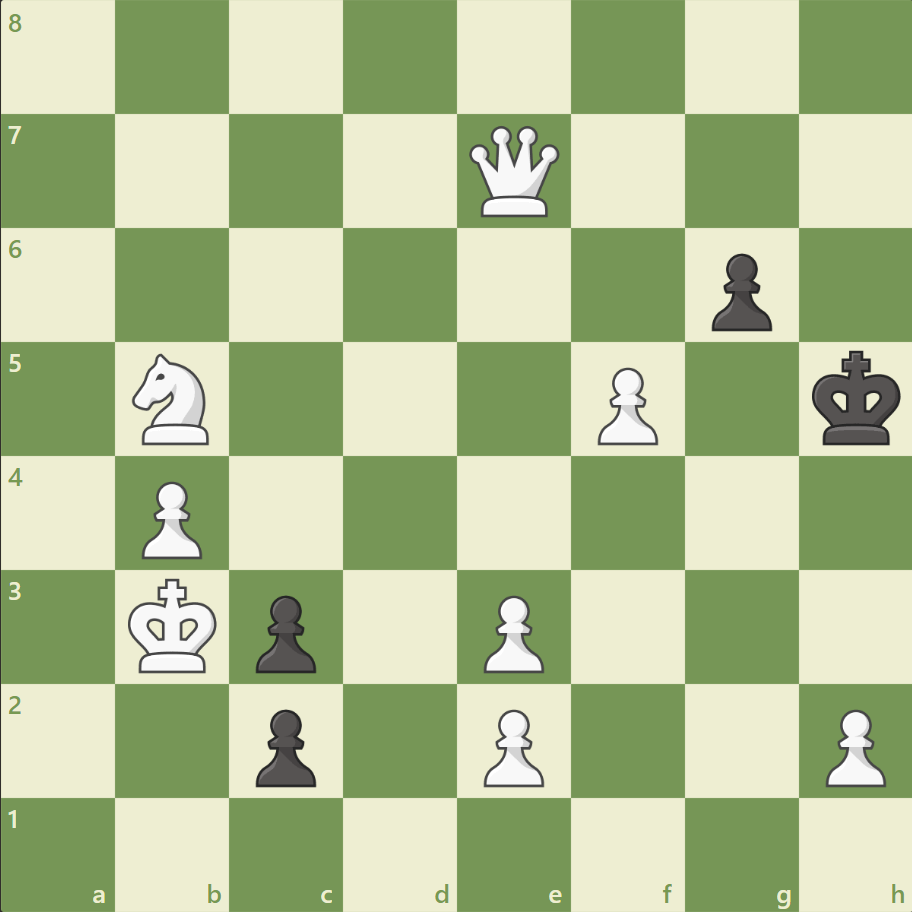K: (124, 571, 224, 679)
N: (124, 348, 222, 450)
P: (133, 473, 208, 564), (474, 586, 549, 677), (474, 700, 549, 791), (588, 359, 662, 450), (815, 700, 889, 791)
Q: (464, 122, 563, 222)
k: (806, 344, 906, 452)
p: (701, 246, 776, 337), (247, 586, 322, 677), (247, 700, 322, 791)
